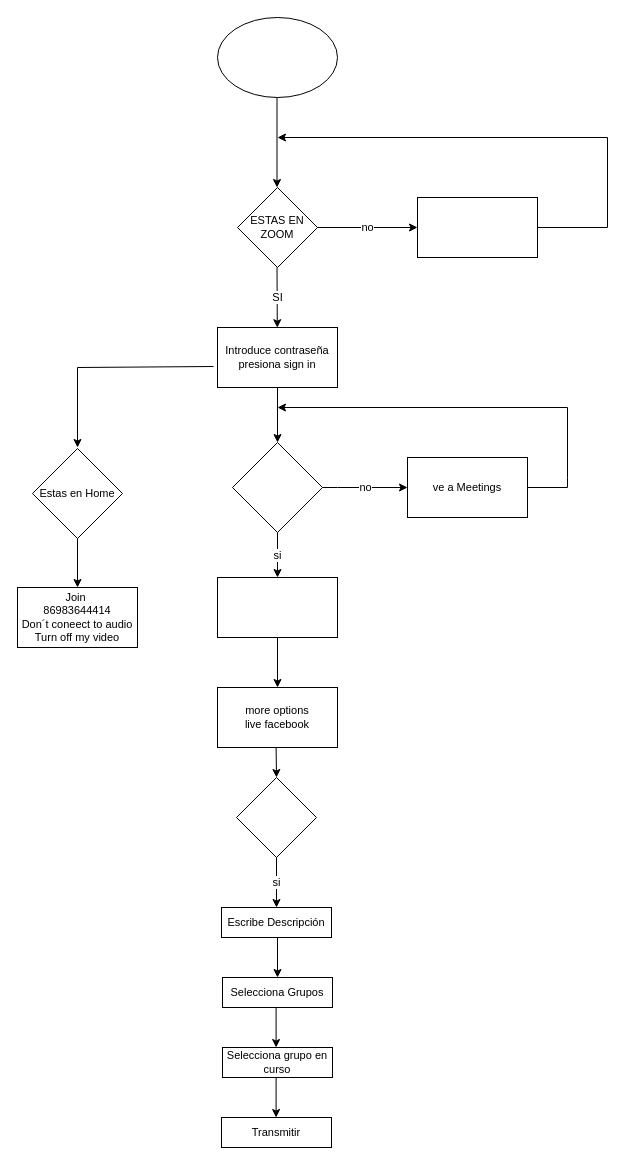
The diagram is 633 pixels wide and 1165 high, and some of its shapes have lost their labels. The shapes that lost their labels are listed below. From the top down, each one's centre as x and y in pixels, then its label:
At (x=277, y=57): "Transmitir a Facebook de Zoom".
At (x=477, y=227): "Abre la aplicación de zoom".
At (x=277, y=487): "Estas en Meetings".
At (x=277, y=607): "Selecciona EJERCICIO START".
At (x=276, y=817): "Estas en facebook".
